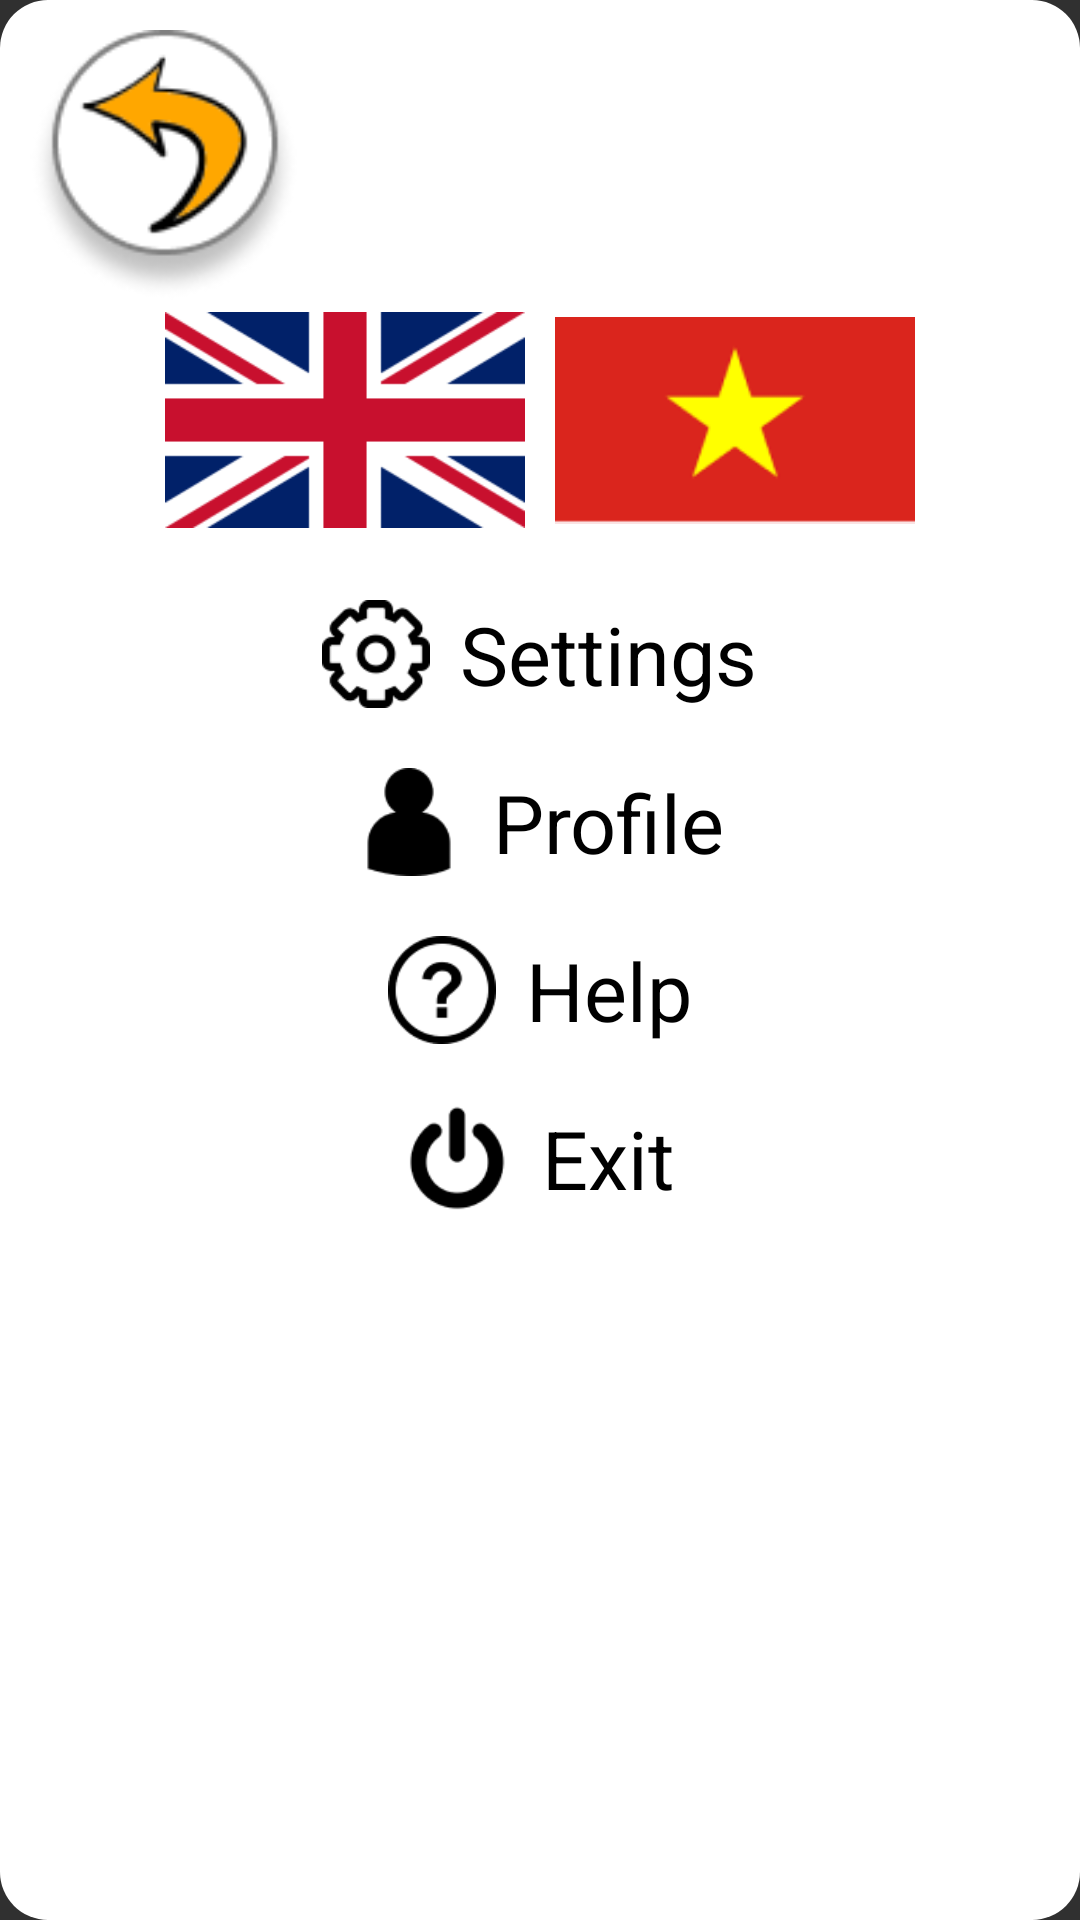

Locate icon controls on the screen. Image size 1080*1920, boxes as (x1,y1,x2,y2).
parameter: (322,600,430,708)
returnbutton: (50,30,280,280)
shutdown: (410,1107,505,1209)
uk flag: (165,312,525,528)
viet flag: (555,317,915,524)
